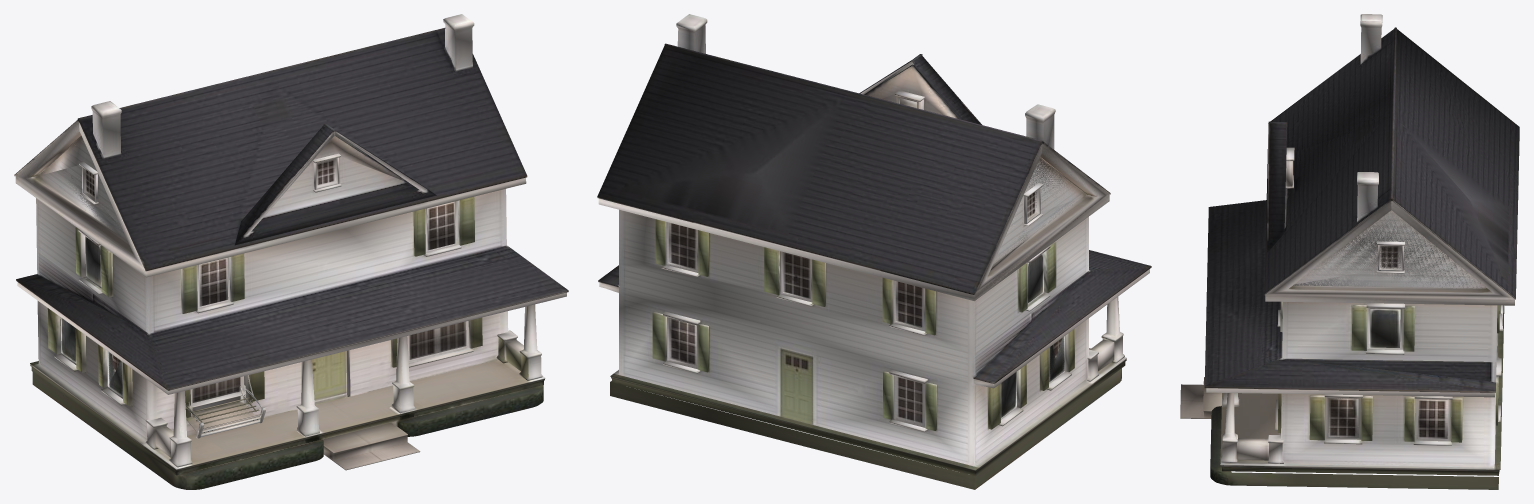
The model's file is tripo-house-a.glb.
The picture shows the model from 3 angles, left to right: view 1: azimuth 30°, elevation 25°; view 2: azimuth 150°, elevation 25°; view 3: azimuth 270°, elevation 25°; orthographic projection. The views are drawn at different scales.
Parts seen in each view (by area): view 1: tripo_node_6440d948-a869-4476-ac78-0574b5d12083; view 2: tripo_node_6440d948-a869-4476-ac78-0574b5d12083; view 3: tripo_node_6440d948-a869-4476-ac78-0574b5d12083.
Boxes of the visible parts, bbox=[...] form: tripo_node_6440d948-a869-4476-ac78-0574b5d12083: bbox=[14, 14, 568, 489]; tripo_node_6440d948-a869-4476-ac78-0574b5d12083: bbox=[597, 14, 1151, 489]; tripo_node_6440d948-a869-4476-ac78-0574b5d12083: bbox=[1180, 14, 1519, 489].
Size of the model in its own units: 1 by 0.793 by 0.7836.
1 material, 1 textured.
